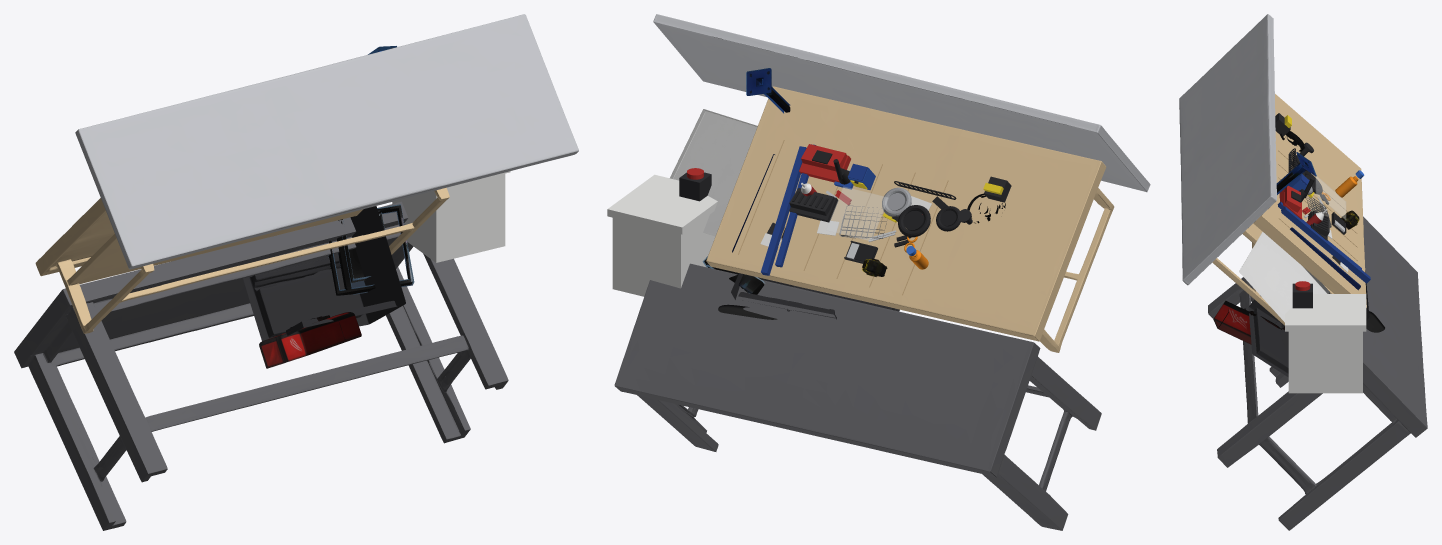
The model's file is viga.glb.
The picture shows the model from 3 angles, left to right: view 1: azimuth 30°, elevation 25°; view 2: azimuth 150°, elevation 25°; view 3: azimuth 270°, elevation 25°; orthographic projection. The views are drawn at different scales.
Parts seen in each view (by area): view 1: gray_fabric_wall_mesh, carpet_floor_mesh, black_tool_drawers_mesh, wooden_workbench_top_mesh, cart_body, red_milwaukee_tool_bag_mesh, blue_workbench_leg_mesh; view 2: carpet_floor_mesh, wooden_workbench_top_mesh, gray_fabric_wall_mesh, cart_body, white_table_surface_mesh, cart_top, organizer_lid, rail2, black_tool_drawers_mesh, blue_rack_upright_post_mesh, estop_body, bit_block_ramp (+1 smaller); view 3: gray_fabric_wall_mesh, carpet_floor_mesh, wooden_workbench_top_mesh, cart_body, white_table_surface_mesh, cart_top, black_tool_drawers_mesh, red_milwaukee_tool_bag_mesh, rail2, organizer_lid, blue_rack_upright_post_mesh, blue_metal_shelf_rail_mesh (+1 smaller).
Boxes of the visible parts, x1,y1,x2,y2 form: gray_fabric_wall_mesh: (75, 14, 578, 269); carpet_floor_mesh: (14, 201, 508, 530); black_tool_drawers_mesh: (243, 206, 405, 341); wooden_workbench_top_mesh: (35, 187, 449, 333); cart_body: (392, 173, 505, 262); red_milwaukee_tool_bag_mesh: (259, 312, 361, 368); blue_workbench_leg_mesh: (328, 204, 414, 295); carpet_floor_mesh: (614, 263, 1101, 530); wooden_workbench_top_mesh: (706, 86, 1114, 352); gray_fabric_wall_mesh: (653, 14, 1150, 192); cart_body: (612, 215, 714, 296); white_table_surface_mesh: (669, 109, 757, 236); cart_top: (607, 174, 717, 234); organizer_lid: (826, 186, 888, 240); rail2: (761, 146, 806, 275); black_tool_drawers_mesh: (731, 273, 899, 319); blue_rack_upright_post_mesh: (746, 68, 790, 113); estop_body: (679, 172, 711, 201); bit_block_ramp: (789, 188, 834, 215); gray_fabric_wall_mesh: (1179, 14, 1276, 285); carpet_floor_mesh: (1208, 216, 1427, 530); wooden_workbench_top_mesh: (1212, 94, 1366, 325); cart_body: (1288, 331, 1362, 393); white_table_surface_mesh: (1239, 231, 1331, 322); cart_top: (1285, 294, 1366, 331); black_tool_drawers_mesh: (1248, 270, 1369, 377); red_milwaukee_tool_bag_mesh: (1213, 300, 1284, 344); rail2: (1281, 206, 1370, 283); organizer_lid: (1316, 176, 1346, 219); blue_rack_upright_post_mesh: (1276, 152, 1316, 194); blue_metal_shelf_rail_mesh: (1290, 227, 1360, 290).
Bounding box in the file's own units: 3.26 × 2.9 × 1.83.
26 materials, 9 textured.
